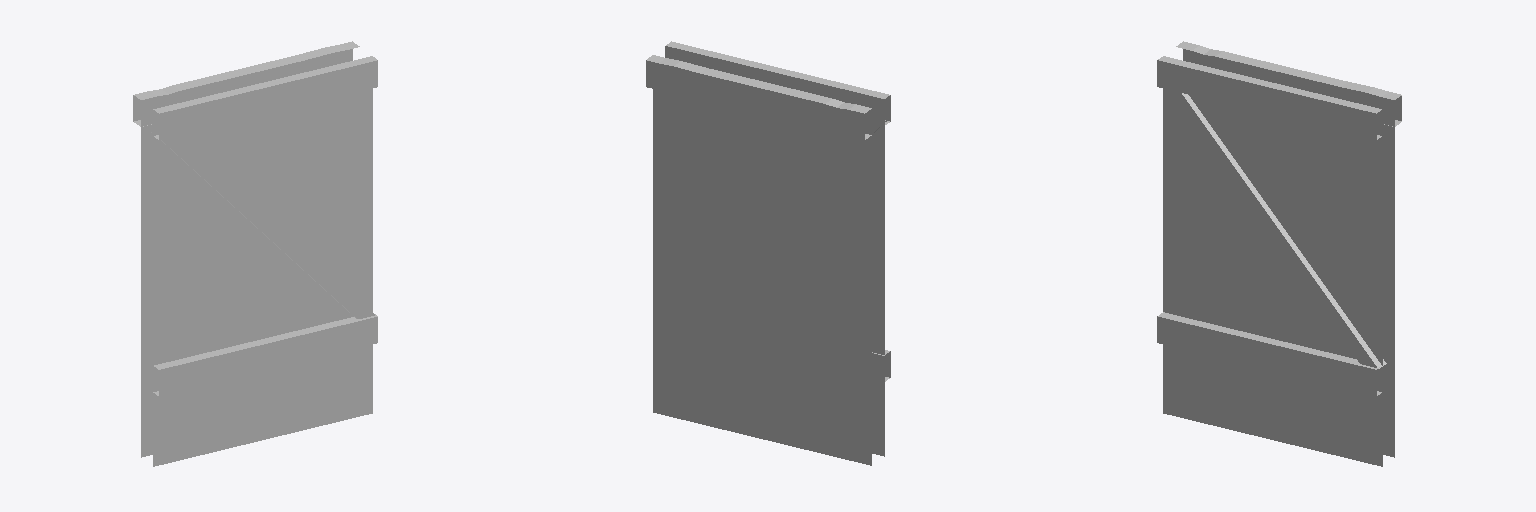
Rendered from Wall_Plaster_Straight_L.obj.
3 renders of one model, left to right at view 1: azimuth 30°, elevation 25°; view 2: azimuth 150°, elevation 25°; view 3: azimuth 330°, elevation 25°, orthographic.
Parts seen in each view (by area): view 1: Wall_Plaster_Straight_L; view 2: Wall_Plaster_Straight_L; view 3: Wall_Plaster_Straight_L.
Boxes of the visible parts, <box> form: Wall_Plaster_Straight_L: <box>133,41,377,466</box>; Wall_Plaster_Straight_L: <box>646,41,890,465</box>; Wall_Plaster_Straight_L: <box>1157,41,1401,466</box>.
Bounding box in the file's own units: 2 × 3.12 × 0.4065.